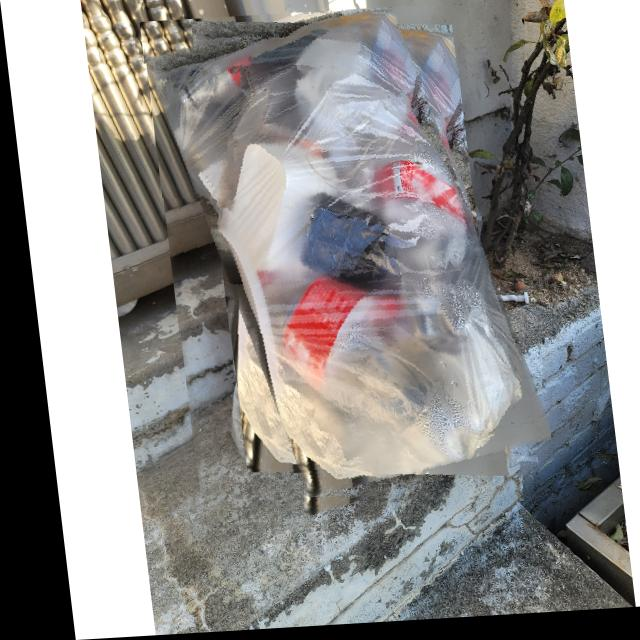other_trashbag: (144, 13, 539, 504)
